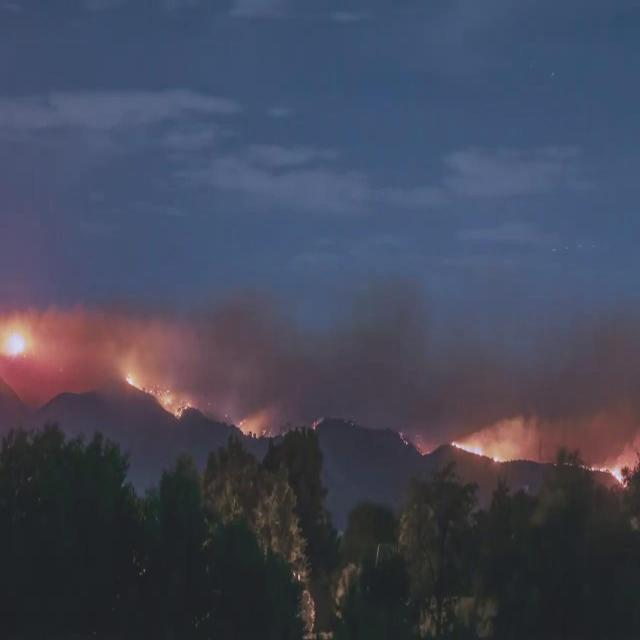Fire: (123, 372, 195, 419), (450, 433, 520, 462), (578, 453, 628, 487), (237, 414, 279, 440), (1, 326, 28, 355), (310, 418, 320, 430), (417, 449, 431, 457)
